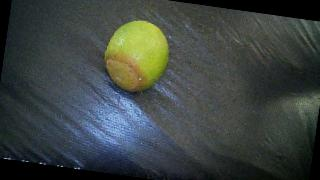DESECHO: (100, 16, 173, 96)
